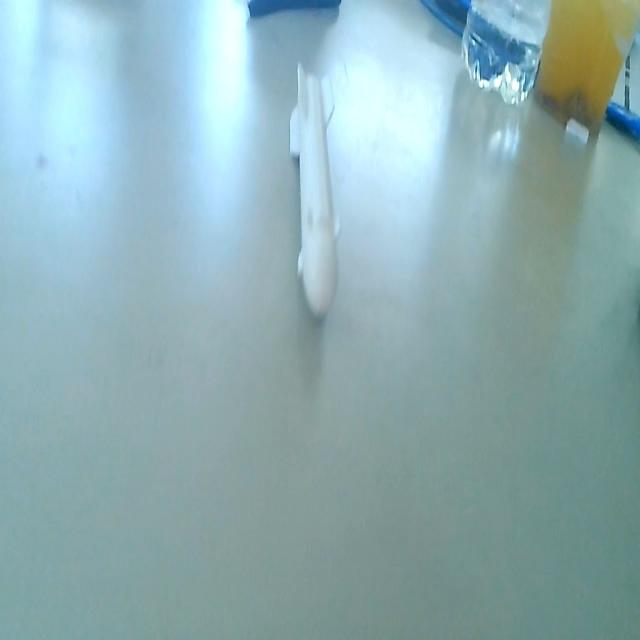Rocket: (288, 61, 344, 327)
